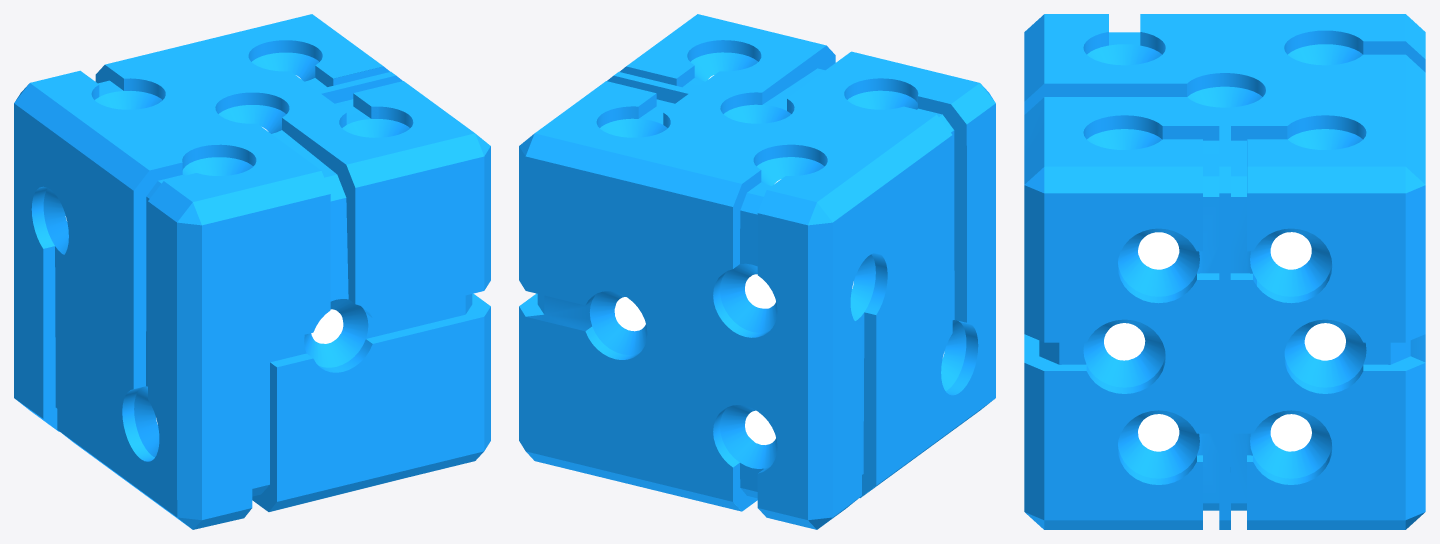
The model's file is dice-transformed.glb.
3 renders of one model, left to right at view 1: azimuth 30°, elevation 25°; view 2: azimuth 150°, elevation 25°; view 3: azimuth 270°, elevation 25°, orthographic. The views are drawn at different scales.
Visible parts, largest first — view 1: Cube.000, Cube.003; view 2: Cube.000, Cube.003; view 3: Cube.000, Cube.003.
Boxes of the visible parts, left/top/right/bottom form: Cube.000: left=14, top=14, right=490, bottom=529; Cube.003: left=65, top=75, right=343, bottom=424; Cube.000: left=519, top=14, right=995, bottom=529; Cube.003: left=614, top=75, right=944, bottom=444; Cube.000: left=1024, top=14, right=1425, bottom=529; Cube.003: left=1104, top=232, right=1345, bottom=451.
Bounding box in the file's own units: 200 × 200 × 200.
